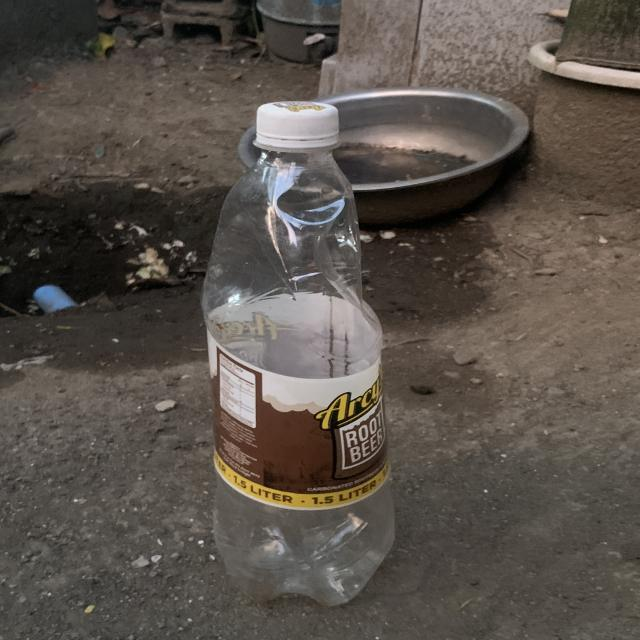Bottle: (202, 101, 394, 606)
